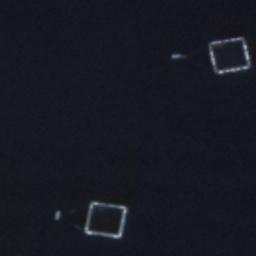square_solid: (206, 33, 254, 77), (81, 198, 129, 241)
